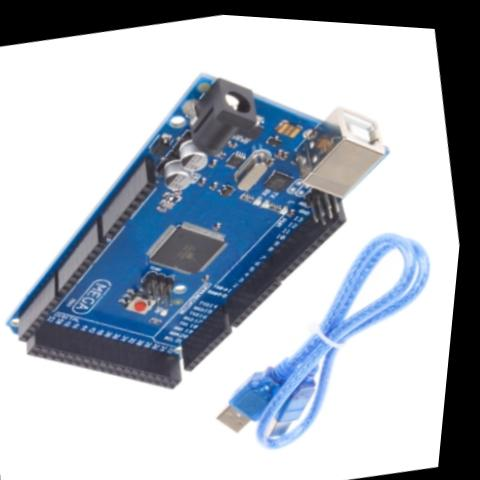Arduino-Mega: (0, 11, 449, 437)
